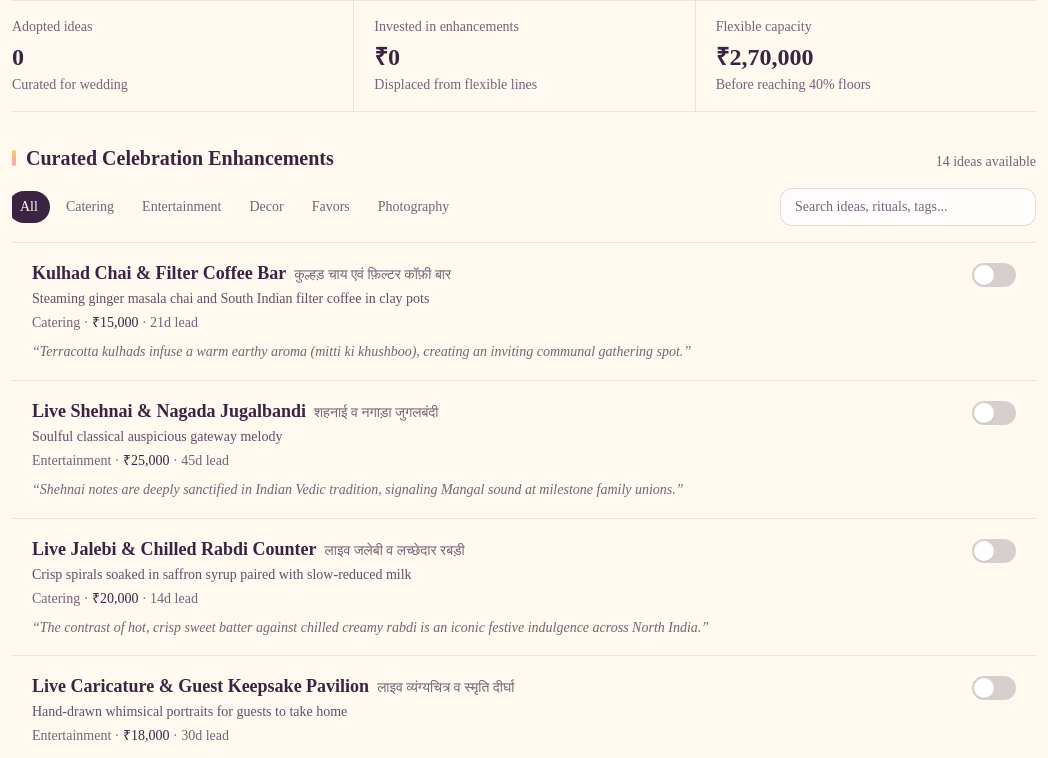
Test: Curated Ideas Tab & Idea Card Components (IDEA-01, IDEA-02, IDEA-03) › filters ideas by category when clicking category pills
Expected: the text "Curated Celebration Enhancements" is shown, [26, 144, 334, 172]
# Click "Entertainment" category pill
Click the button "Entertainment" at (182, 207), box [130, 191, 233, 223]
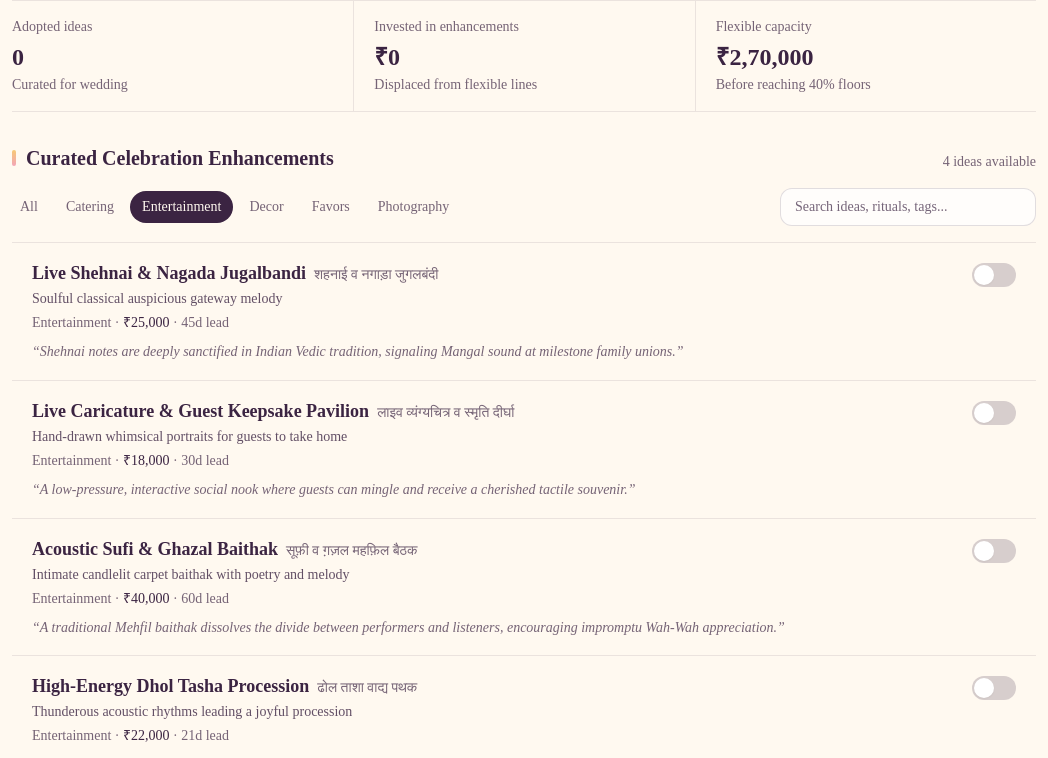
Expected: the heading "Live Shehnai & Nagada Jugalbandi" is shown, [32, 263, 306, 283]
Result: the heading "Kulhad Chai & Filter Coffee Bar" is gone
